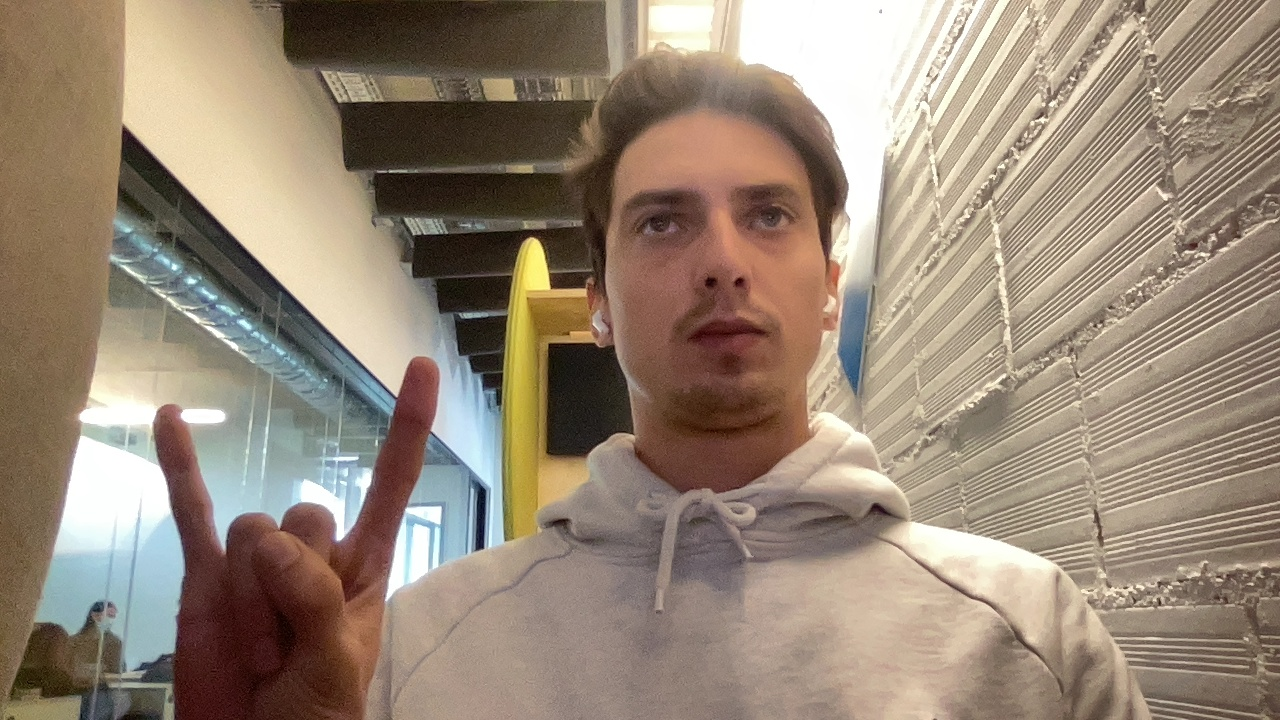iloveyou: (136, 355, 467, 717)
